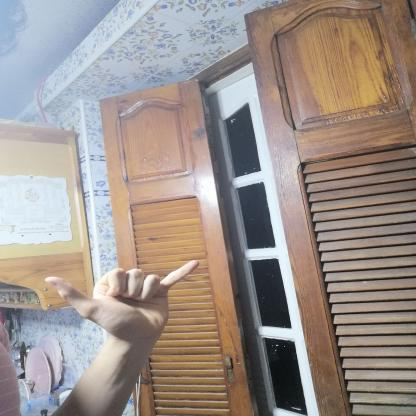YA: (31, 254, 210, 348)
